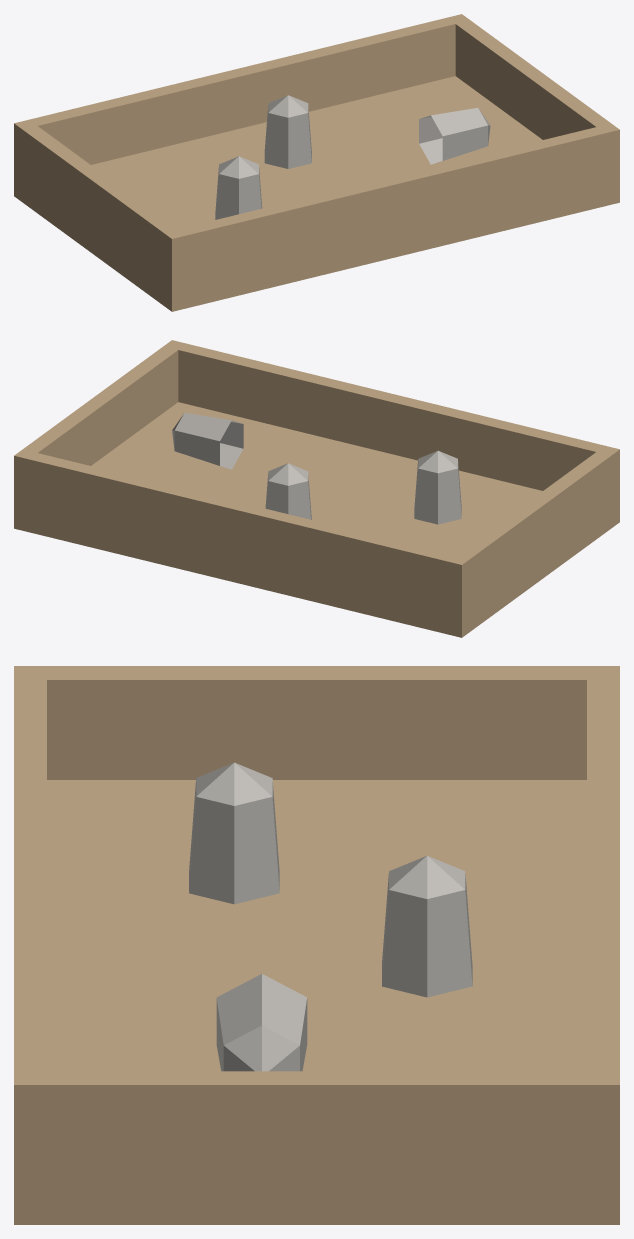
Rendered from prop-thimble-blank-tray.fbx.
3 renders of one model, top to bottom at view 1: azimuth 30°, elevation 25°; view 2: azimuth 150°, elevation 25°; view 3: azimuth 270°, elevation 25°, orthographic. The views are drawn at different scales.
Parts seen in each view (by area): view 1: prop-thimble-blank-tray; view 2: prop-thimble-blank-tray; view 3: prop-thimble-blank-tray.
Boxes of the visible parts, x1,y1,x2,y2 form: prop-thimble-blank-tray: (14,14,619,311); prop-thimble-blank-tray: (14,340,619,637); prop-thimble-blank-tray: (14,666,619,1224).
Bounding box in the file's own units: 18 × 3.2 × 11.
